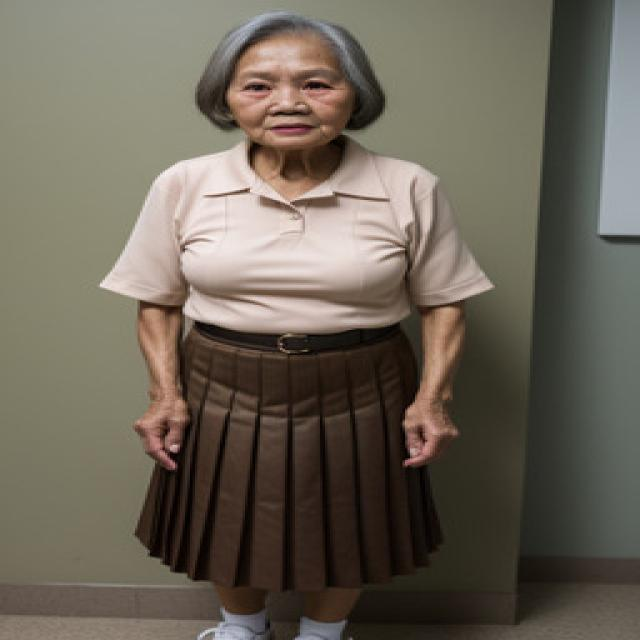Ai human 2: (96, 3, 520, 640)
